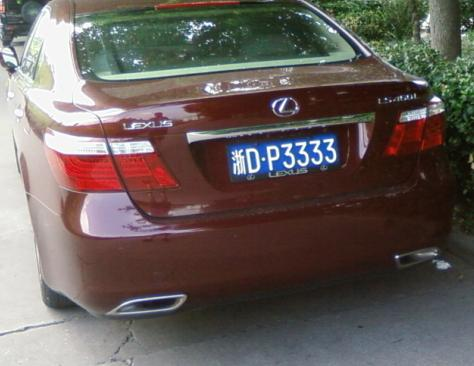plate_number: (224, 138, 344, 175)
